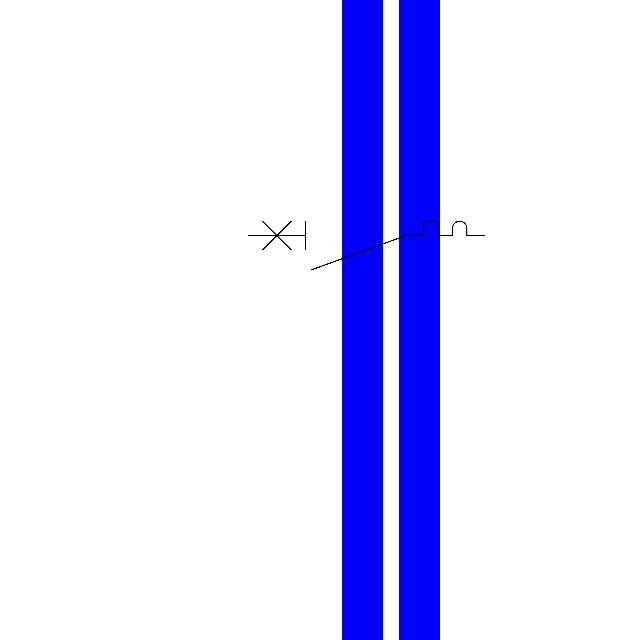interruptor_termomagnetico: (242, 215, 491, 276)
